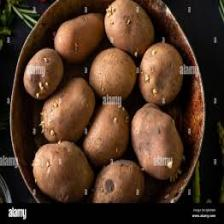Sprouted potato: (122, 93, 186, 186), (24, 136, 94, 202), (36, 78, 96, 143), (77, 99, 132, 166), (80, 44, 144, 98), (52, 8, 114, 63), (140, 41, 184, 107), (102, 1, 157, 52), (89, 154, 143, 201), (23, 45, 65, 104)
